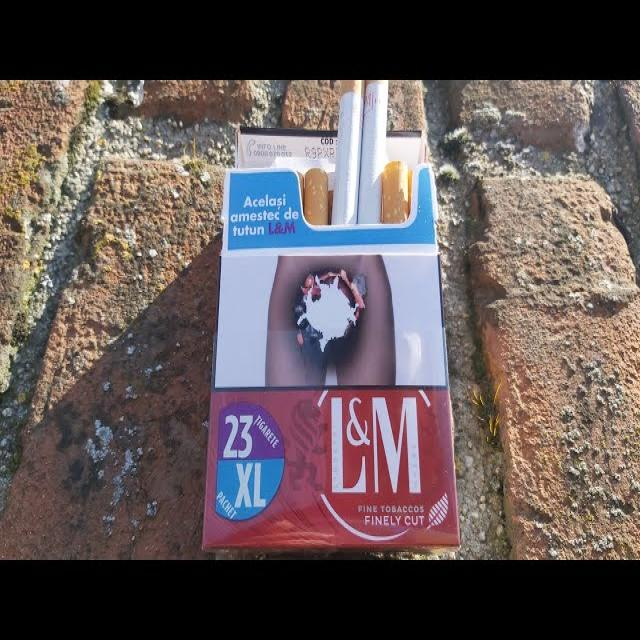lm: (210, 119, 465, 552)
